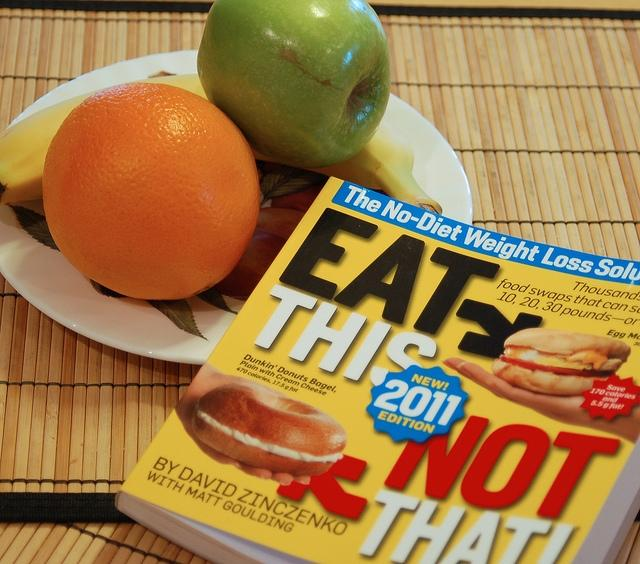apple: (197, 2, 392, 168)
banana: (0, 73, 444, 216)
orange: (41, 83, 260, 302)
